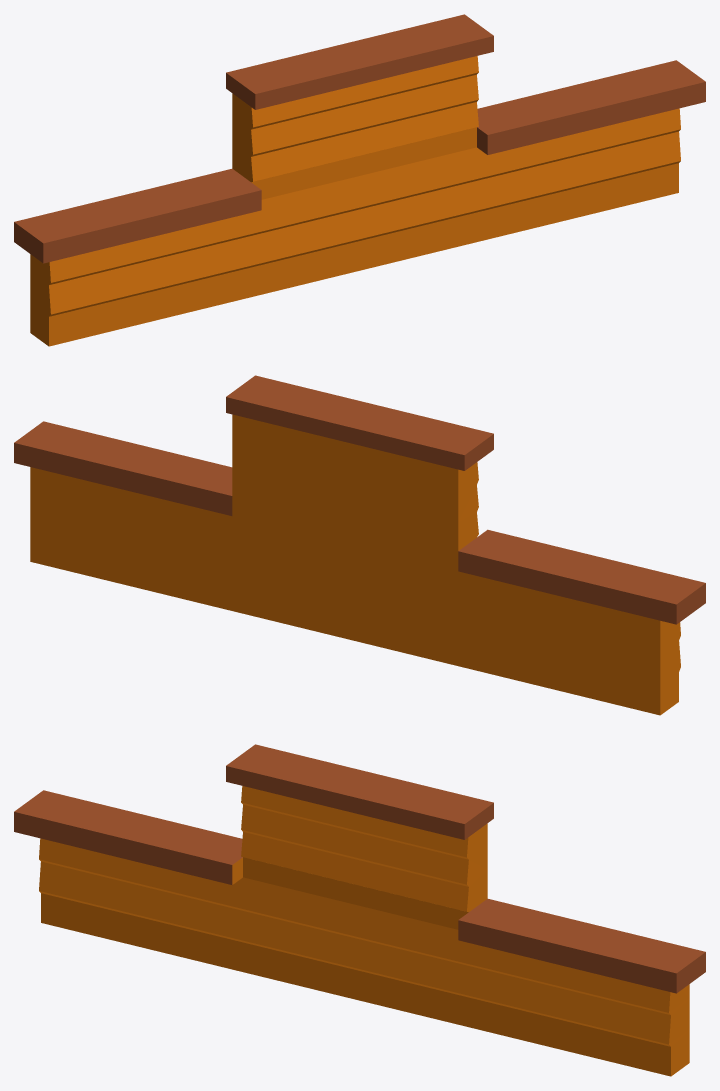
The model's file is ROOF_A1.fbx.
The picture shows the model from 3 angles, top to bottom: view 1: azimuth 30°, elevation 25°; view 2: azimuth 150°, elevation 25°; view 3: azimuth 330°, elevation 25°; orthographic projection.
Visible parts, largest first — view 1: ROOF_A1; view 2: ROOF_A1; view 3: ROOF_A1.
Part boxes in pixels (x1,y1,x2,y2): ROOF_A1: (14, 14, 705, 346); ROOF_A1: (14, 375, 705, 715); ROOF_A1: (14, 744, 705, 1076).
Size of the model in its own units: 730 by 224 by 56.15.
